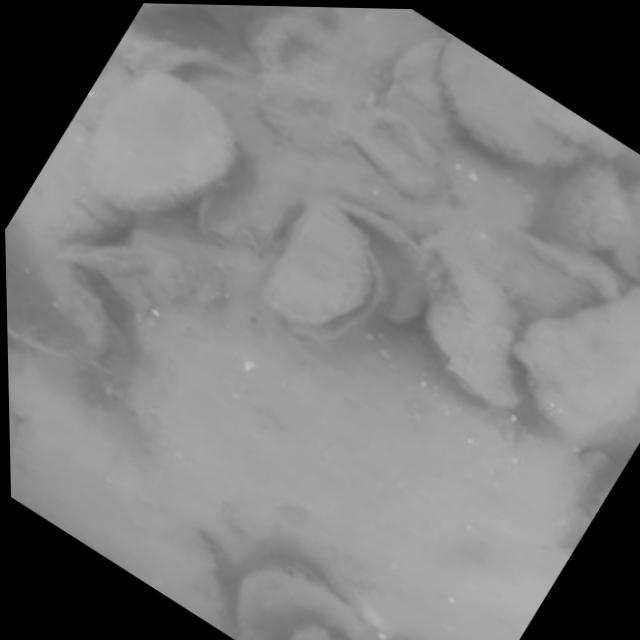Oyster-Indeterminate: (438, 34, 624, 167), (82, 73, 236, 212), (521, 287, 640, 442), (5, 219, 111, 369), (424, 238, 516, 406), (249, 6, 361, 101), (346, 103, 440, 200), (378, 37, 452, 153), (239, 573, 363, 640), (253, 76, 354, 150), (546, 165, 629, 251), (152, 548, 222, 612)
Oyster-Open: (260, 207, 382, 342)
